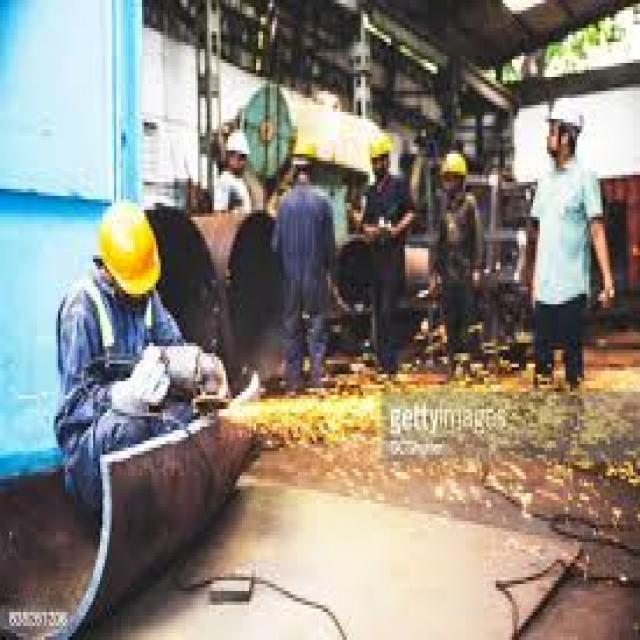Safety-Helmet: (86, 189, 170, 308), (538, 91, 591, 136), (218, 122, 254, 168), (438, 143, 474, 189), (363, 126, 398, 168), (290, 132, 320, 168)
